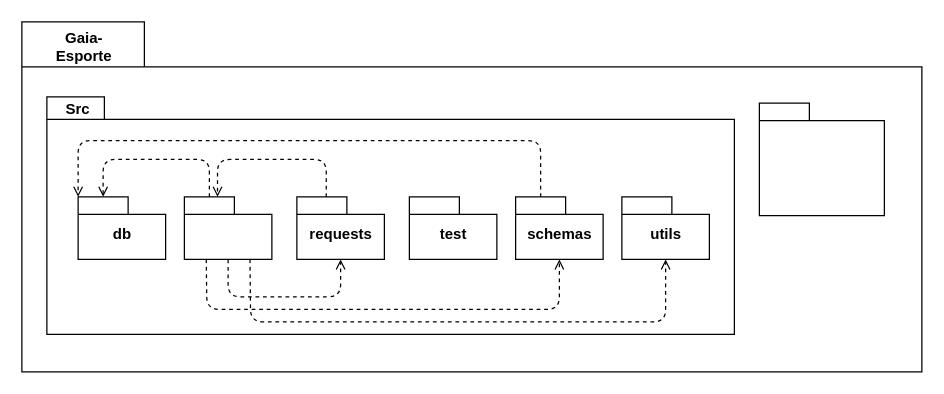
Image size: 944x394. Some labels were removed from this diagram. The shapes that lost their labels are listed below. From the top down, each one's centre as x and y in pixels, then its label:
At (821,159): "k8s".
At (227,227): "models".
